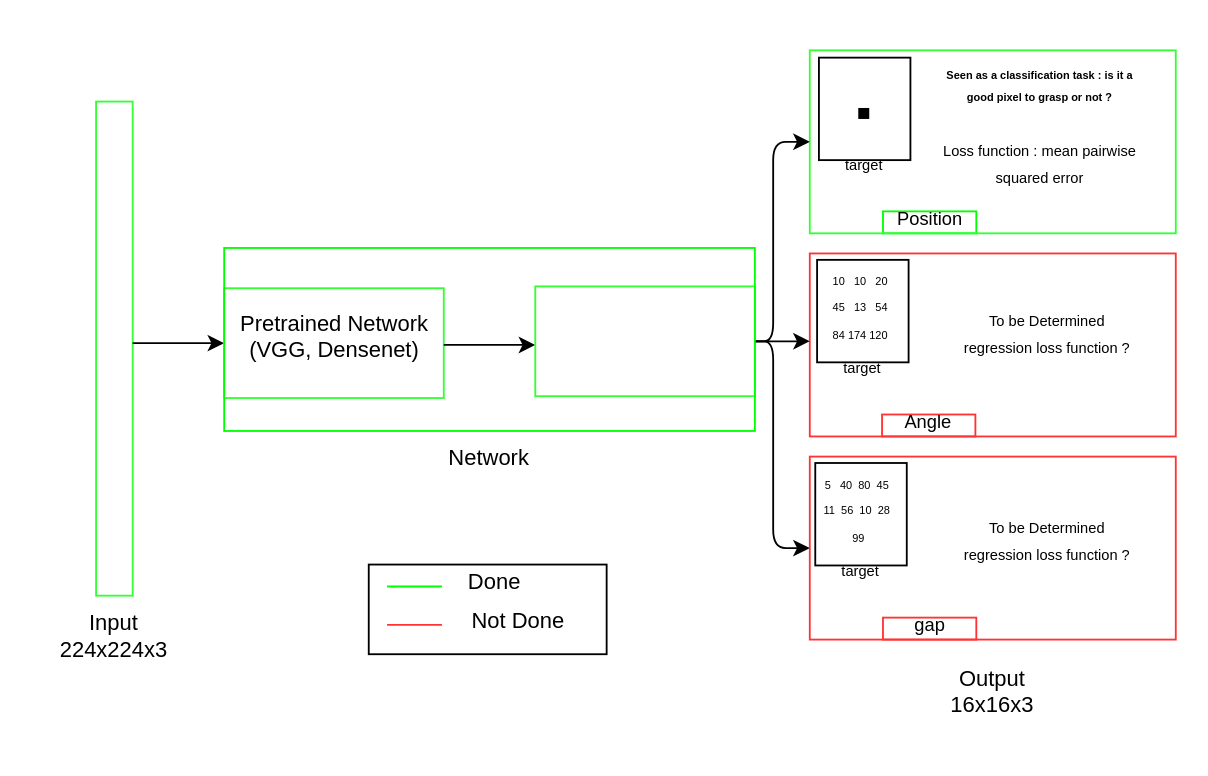
The diagram is 1208 pixels wide and 776 high, and some of its shapes have lost their labels. Here are the shapes that lost their labels. From the top down, the centre of each, then its label:
At point (113, 348): "Batch of images".
At point (644, 340): "Raw CNN 2 conv2D with Batch Normalization".
